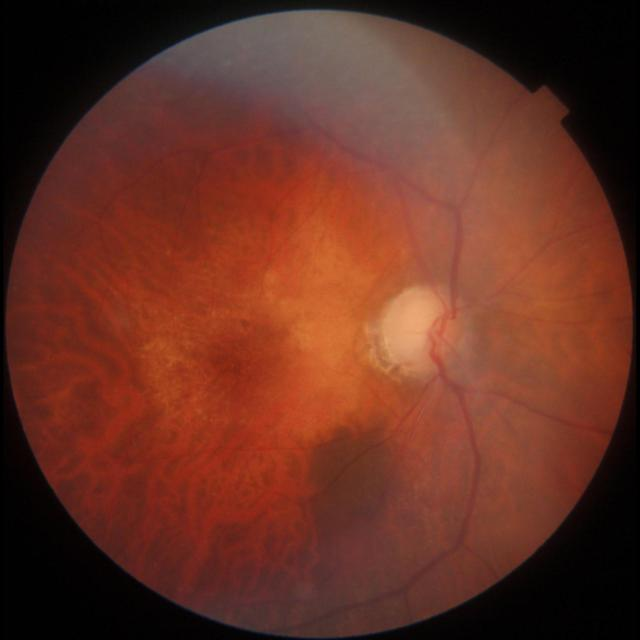OC: (392, 297, 434, 351)
OD: (384, 287, 466, 375)
